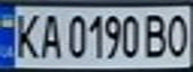0: (63, 11, 87, 60), (121, 11, 142, 60)
1: (84, 11, 106, 60)
9: (103, 11, 124, 60)
A: (36, 10, 63, 60)
B: (142, 10, 172, 60)
K: (12, 9, 42, 61)
O: (163, 10, 193, 58)
